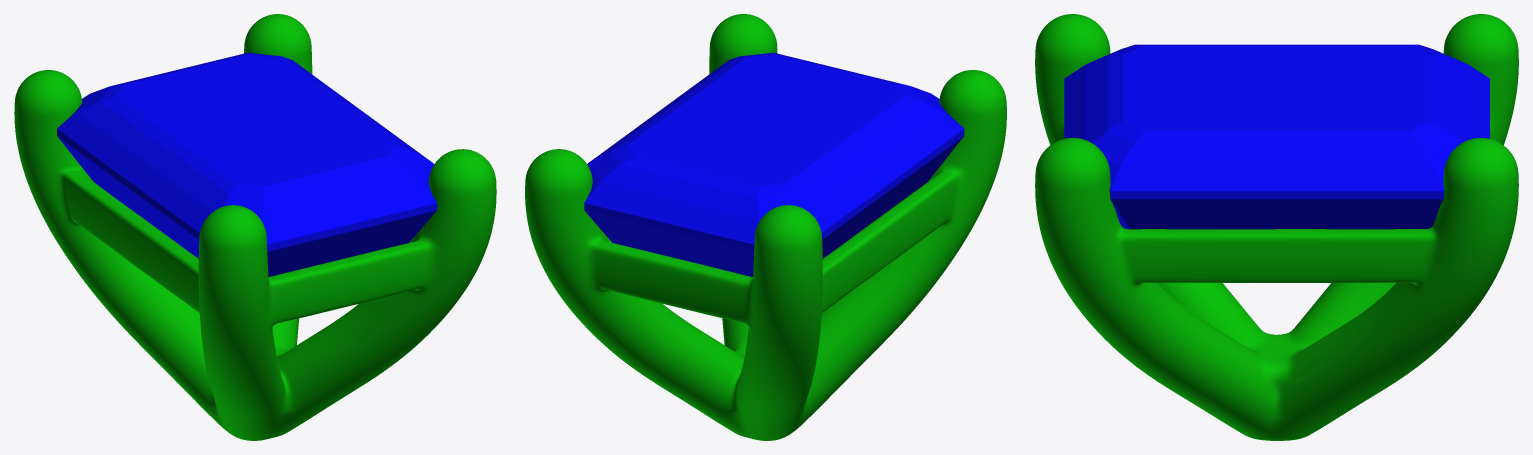
The picture shows the model from 3 angles, left to right: view 1: azimuth 30°, elevation 25°; view 2: azimuth 150°, elevation 25°; view 3: azimuth 270°, elevation 25°; orthographic projection. The views are drawn at different scales.
Parts seen in each view (by area): view 1: Metal01, Diamond_Emerald; view 2: Metal01, Diamond_Emerald; view 3: Metal01, Diamond_Emerald.
Part boxes in pixels (left/top/right/bottom): Metal01: left=14, top=14, right=496, bottom=440; Diamond_Emerald: left=57, top=52, right=437, bottom=276; Metal01: left=525, top=14, right=1006, bottom=440; Diamond_Emerald: left=584, top=52, right=964, bottom=276; Metal01: left=1035, top=14, right=1518, bottom=440; Diamond_Emerald: left=1064, top=44, right=1489, bottom=229.
Bounding box in the file's own units: 5.26 × 5.5 × 6.91.
